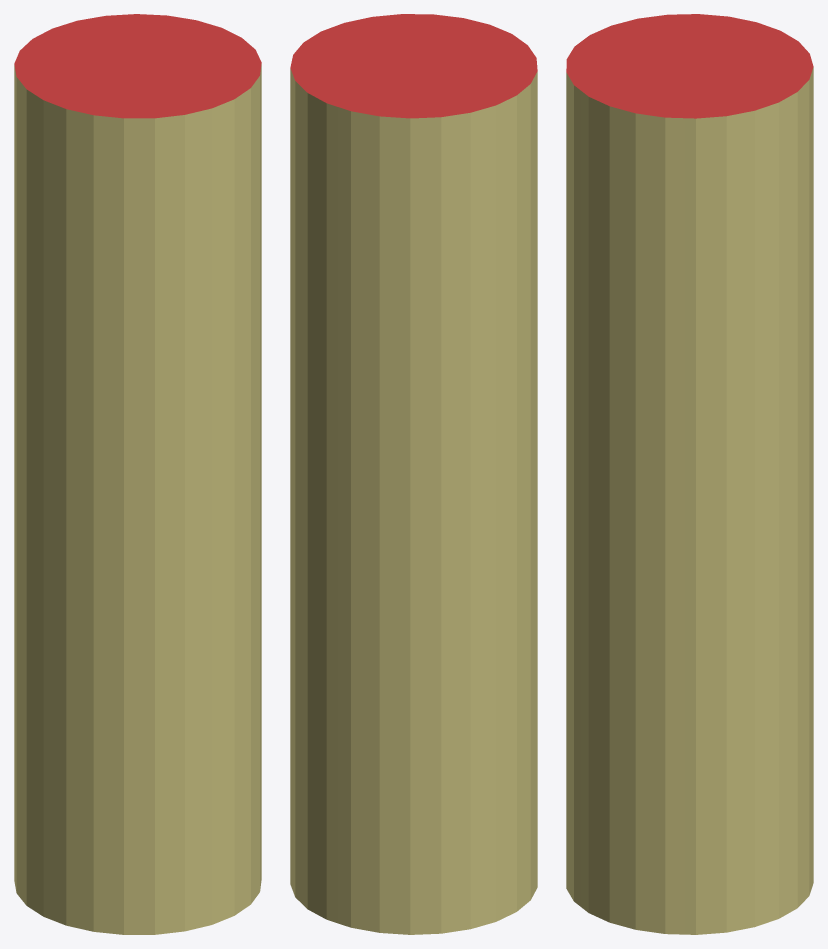
3 renders of one model, left to right at view 1: azimuth 30°, elevation 25°; view 2: azimuth 150°, elevation 25°; view 3: azimuth 270°, elevation 25°, orthographic.
Bounding box in the file's own units: 2.44 × 2.44 × 8.89.
